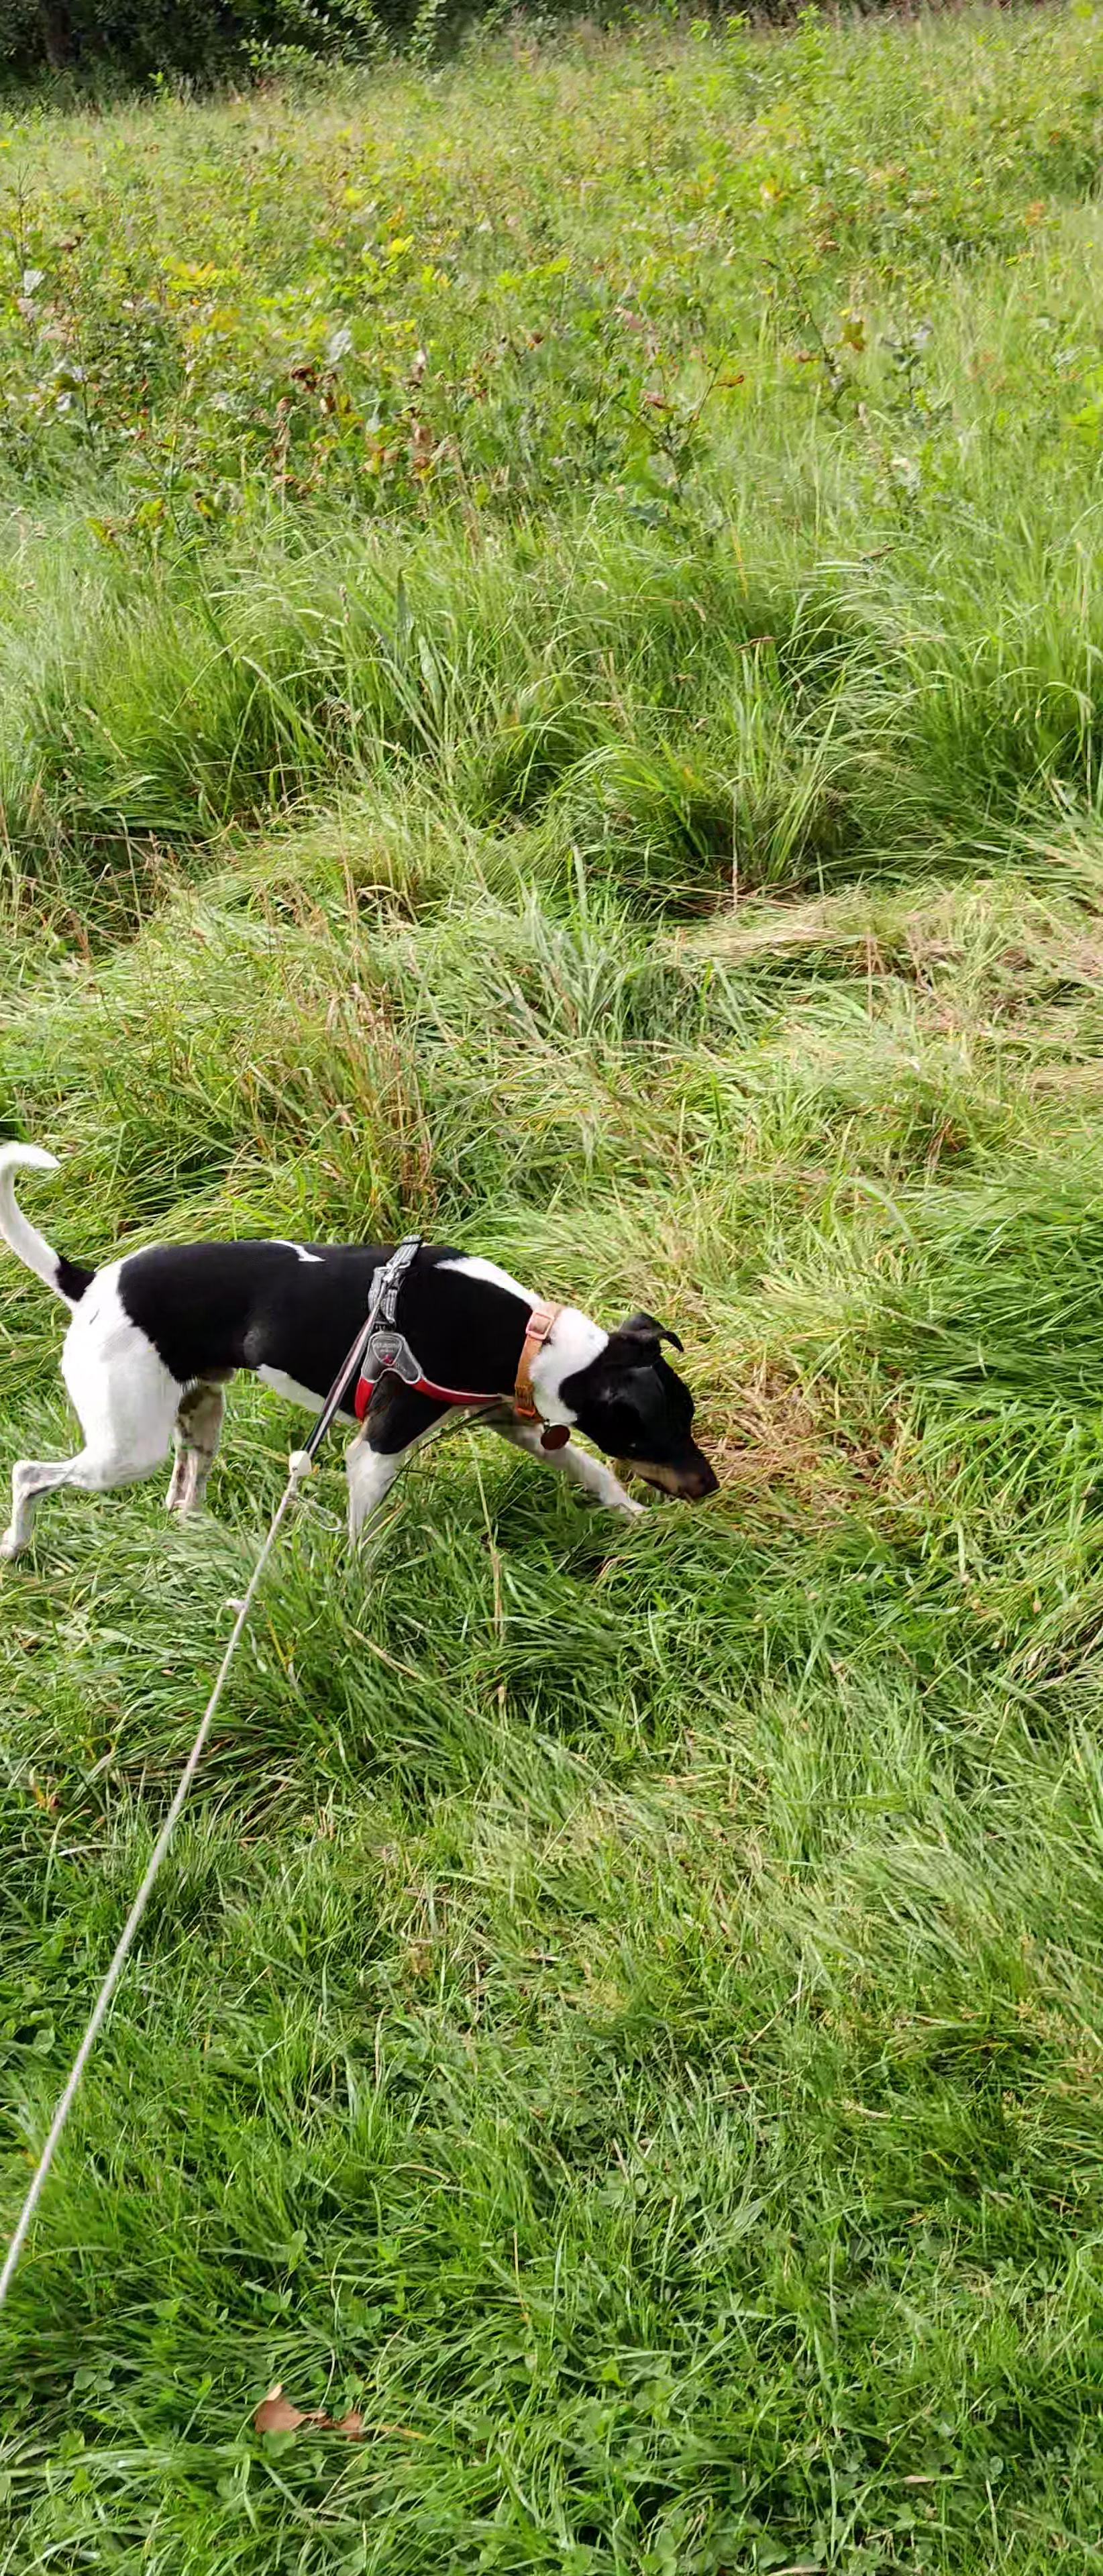Dog: (0, 1134, 722, 1566)
